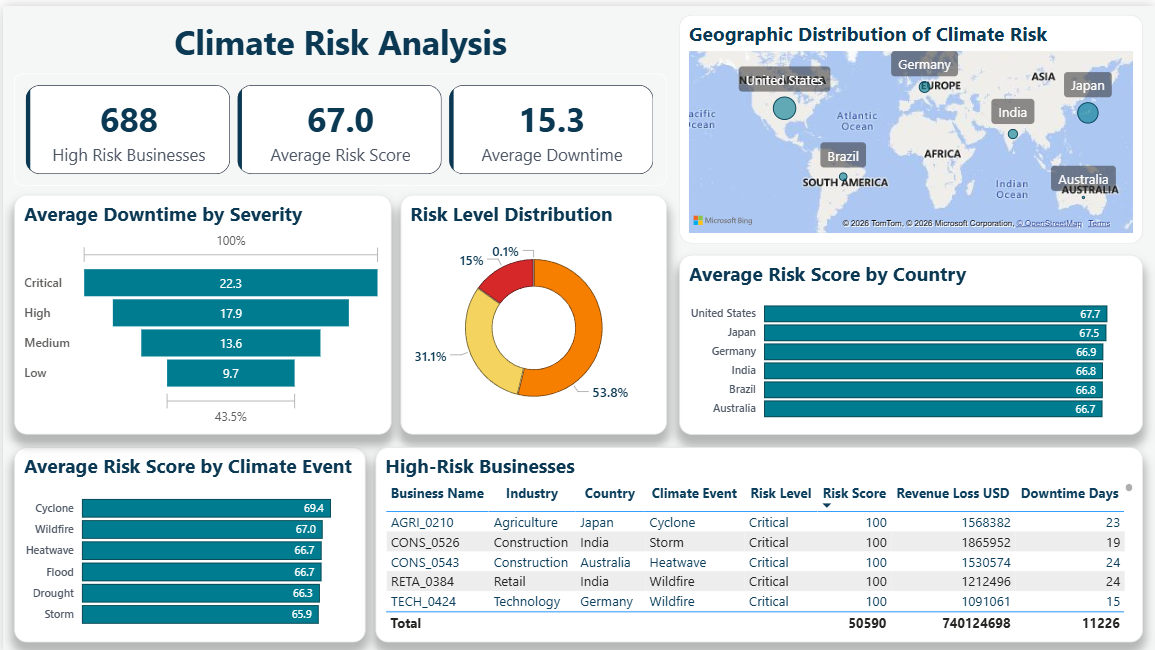

Layout of this report page (visuals, bound fields, positions):
{"tool":"powerbi","page":{"name":"Climate Risk Analysis","canvas":[1280,720],"ordinal":1},"visuals":[{"type":"clusteredBarChart","title":"Average Risk Score by Country","fields":{"Category":["Climate_Risk_and_Business_Impact_Dataset.Country"],"Y":["Climate_Risk_and_Business_Impact_Dataset.Average Risk Score"]},"box":[751.4,276.4,515.3,200],"z":0},{"type":"clusteredBarChart","title":"Average Risk Score by Climate Event","fields":{"Category":["Climate_Risk_and_Business_Impact_Dataset.Climate_Event"],"Y":["Climate_Risk_and_Business_Impact_Dataset.Average Risk Score"]},"box":[12.5,490.3,390.3,216.7],"z":1000},{"type":"donutChart","title":"Risk Level Distribution","fields":{"Category":["Climate_Risk_and_Business_Impact_Dataset.Risk_Level"],"Y":["CountNonNull(Climate_Risk_and_Business_Impact_Dataset.Business_ID)"]},"box":[441.7,209.7,295.8,266.7],"z":2000},{"type":"funnel","fields":{"Category":["Climate_Risk_and_Business_Impact_Dataset.Severity"],"Y":["Climate_Risk_and_Business_Impact_Dataset.Average Downtime"]},"box":[12.5,209.7,419.4,266.7],"z":3000},{"type":"cardVisual","fields":{"Data":["Climate_Risk_and_Business_Impact_Dataset.High Risk Businesses","Climate_Risk_and_Business_Impact_Dataset.Average Risk Score","Climate_Risk_and_Business_Impact_Dataset.Average Downtime"]},"box":[12.5,75,725,125],"z":4000},{"type":"map","title":"Geographic Distribution of Climate Risk","fields":{"Category":["Climate_Risk_and_Business_Impact_Dataset.Country"],"Size":["Climate_Risk_and_Business_Impact_Dataset.Average Risk Score"]},"box":[751.4,9.7,515.3,254.2],"z":5000},{"type":"tableEx","title":"High-Risk Businesses","fields":{"Values":["Climate_Risk_and_Business_Impact_Dataset.Business_Name","Climate_Risk_and_Business_Impact_Dataset.Industry","Climate_Risk_and_Business_Impact_Dataset.Country","Climate_Risk_and_Business_Impact_Dataset.Climate_Event","Climate_Risk_and_Business_Impact_Dataset.Risk_Level","Sum(Climate_Risk_and_Business_Impact_Dataset.Risk_Score)","Sum(Climate_Risk_and_Business_Impact_Dataset.Revenue_Loss_USD)","Sum(Climate_Risk_and_Business_Impact_Dataset.Downtime_Days)"]},"box":[413.9,490.3,852.8,216.7],"z":6000},{"type":"textbox","box":[12.5,9.7,725,65.3],"z":7000}]}

Visuals, with their boxes in screenshot pixels (x1, y1, x2, y2), scaled from the page's 1280x720 canvas onto the 1155x650 screenshot:
"Average Risk Score by Country" clusteredBarChart: rect(678, 250, 1143, 430)
"Average Risk Score by Climate Event" clusteredBarChart: rect(11, 443, 363, 638)
"Risk Level Distribution" donutChart: rect(399, 189, 665, 430)
funnel - Climate_Risk_and_Business_Impact_Dataset.Severity x Climate_Risk_and_Business_Impact_Dataset.Average Downtime: rect(11, 189, 390, 430)
cardVisual - Climate_Risk_and_Business_Impact_Dataset.High Risk Businesses x Climate_Risk_and_Business_Impact_Dataset.Average Risk Score: rect(11, 68, 665, 181)
"Geographic Distribution of Climate Risk" map: rect(678, 9, 1143, 238)
"High-Risk Businesses" tableEx: rect(373, 443, 1143, 638)
textbox: rect(11, 9, 665, 68)
